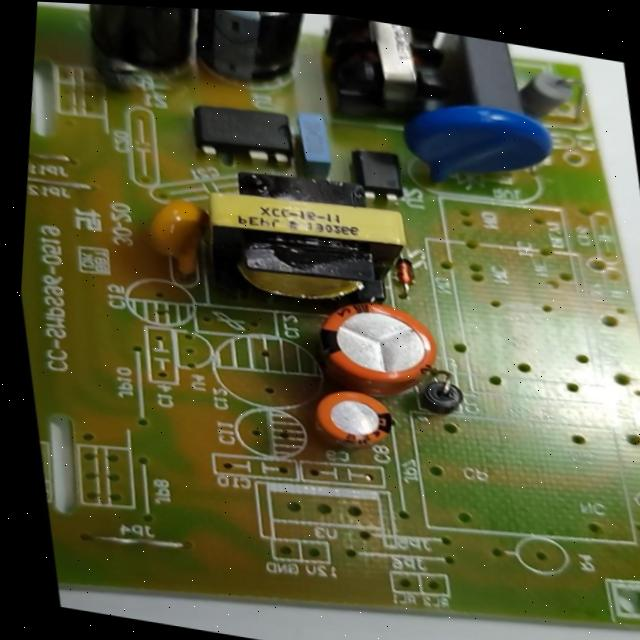Cap1: (286, 282, 462, 407)
Cap2: (288, 371, 411, 465)
Cap3: (179, 8, 340, 110)
Cap4: (64, 3, 225, 104)
MOSFET: (174, 88, 312, 178)
Mov: (366, 75, 587, 216)
Resistor: (506, 56, 600, 137)
Transformer: (172, 161, 439, 348), (299, 13, 479, 155)
